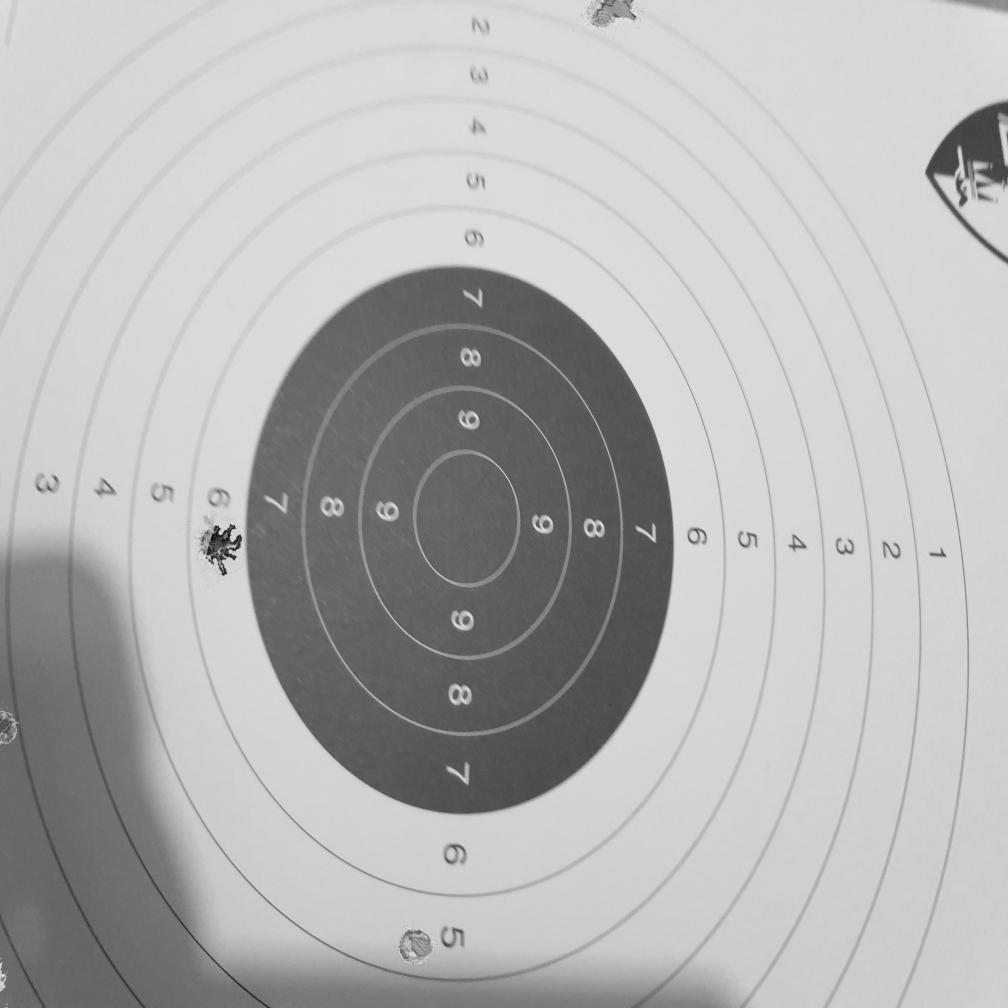1: (582, 0, 611, 32), (612, 0, 640, 26)
2: (0, 708, 19, 749)
5: (397, 925, 436, 968)
6: (194, 517, 242, 575)
Target: (2, 0, 971, 1008)
black_contour: (246, 264, 672, 818)
